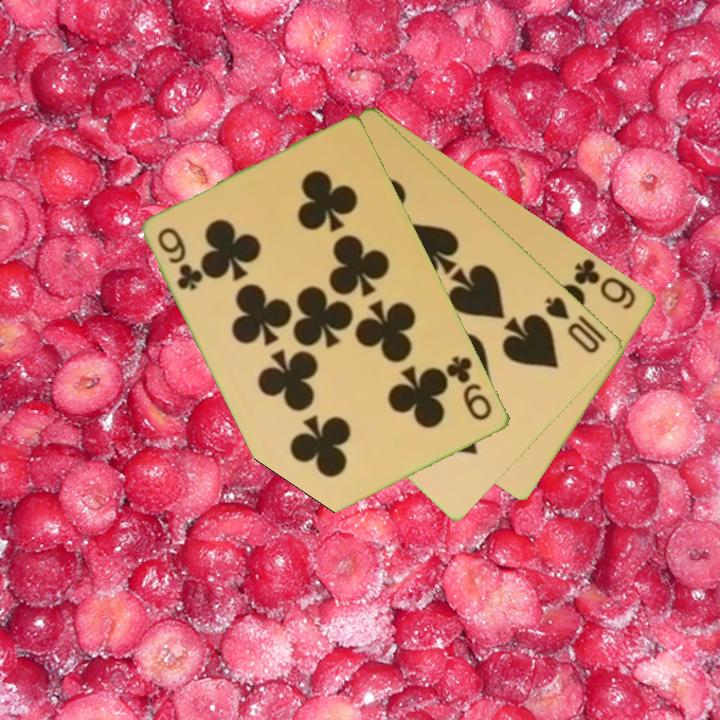10s: (541, 292, 604, 357)
6c: (571, 254, 640, 313)
9c: (443, 352, 496, 424), (154, 224, 206, 293)
